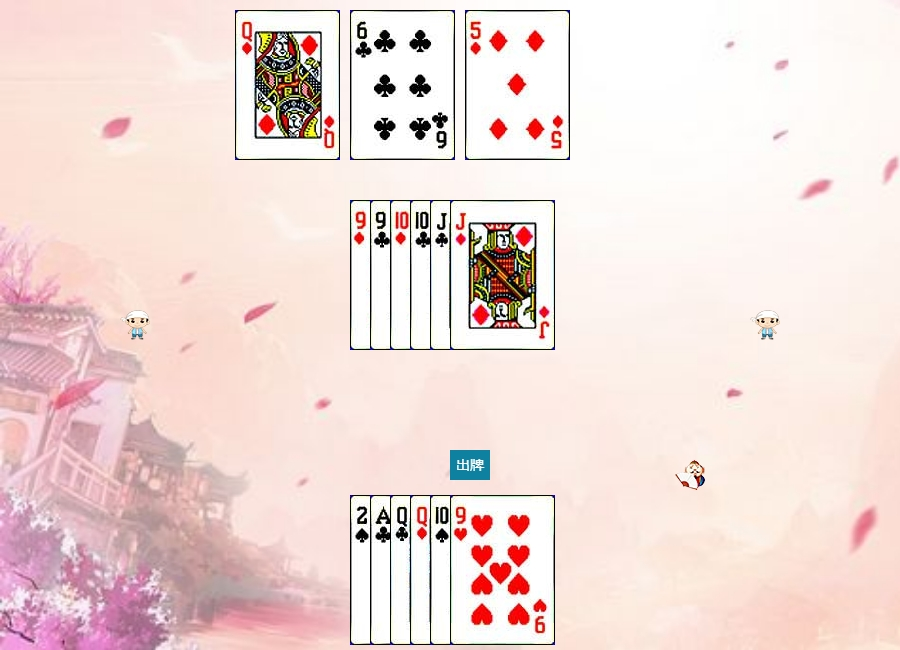10~1: (390, 200, 495, 350)
10~2: (410, 200, 515, 350)
10~4: (430, 495, 535, 645)
11~1: (450, 200, 555, 350)
11~2: (430, 200, 535, 350)
12~1: (235, 10, 340, 160), (410, 495, 515, 645)
12~2: (390, 495, 495, 645)
14~2: (370, 495, 475, 645)
15~4: (350, 495, 455, 645)
5~1: (465, 10, 570, 160)
6~2: (350, 10, 455, 160)
9~1: (350, 200, 455, 350)
9~2: (370, 200, 475, 350)
9~3: (450, 495, 555, 645)
